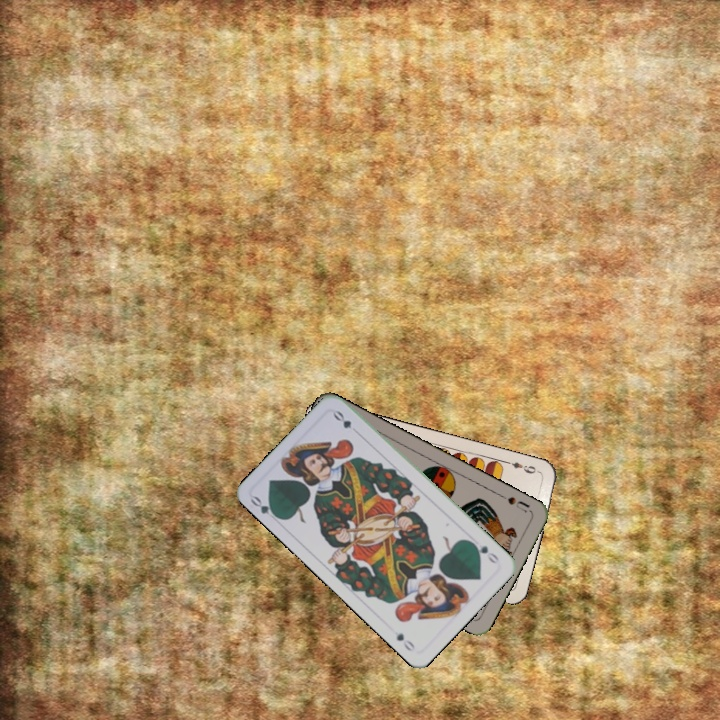E9: (503, 457, 543, 476)
GO: (247, 492, 283, 522), (467, 538, 502, 566)
SU: (495, 490, 532, 515)
